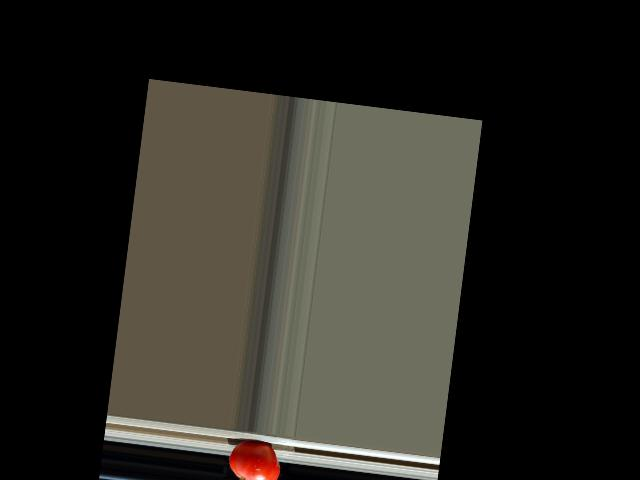tomato: (225, 438, 282, 480)
